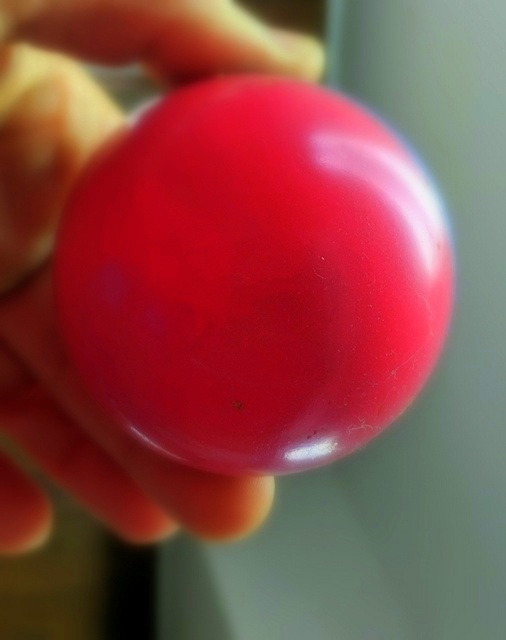ball: (51, 73, 449, 479)
